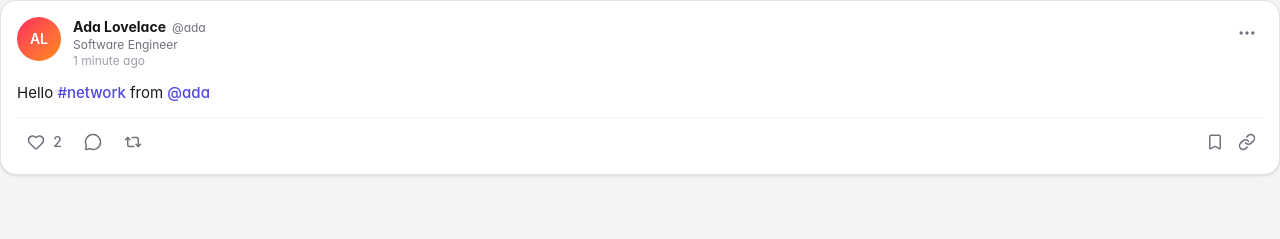
PostCard › only shows edit/delete to the author
Click the button named "Post options": (1247, 33) 1231,17 -> 1263,49
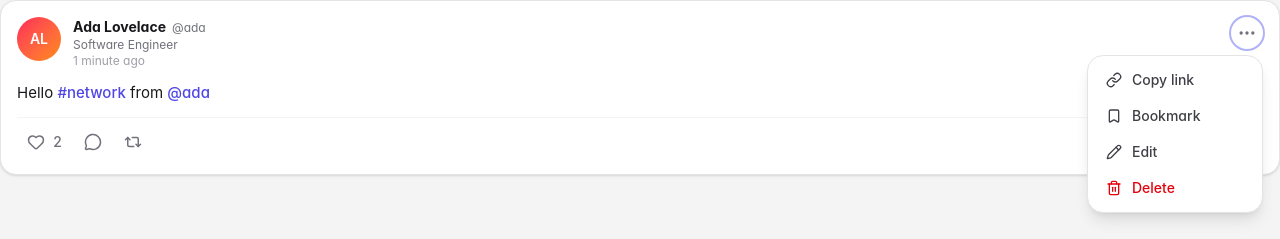
Expected: the menu item "Edit" is shown, 1094,134 -> 1256,170
Expected: the menu item "Delete" is shown, 1094,170 -> 1256,206
